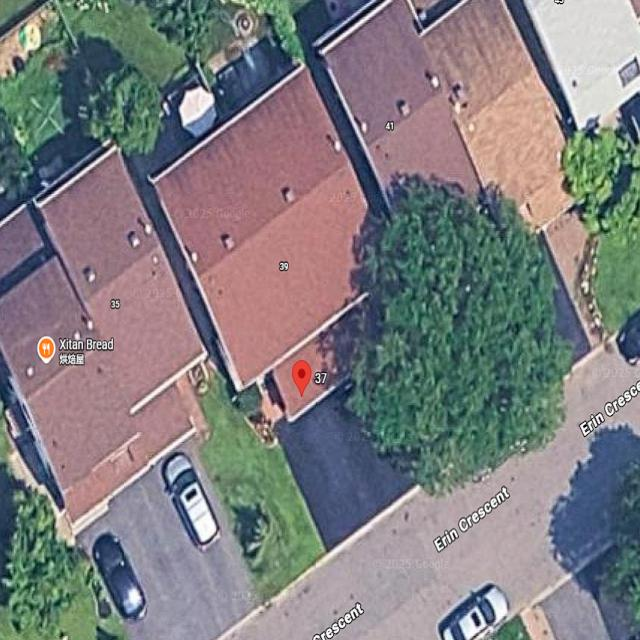Building: (150, 65, 427, 422)
boundaryof property: (59, 3, 487, 584)
obstacle: (163, 447, 226, 555), (89, 532, 144, 621), (440, 582, 512, 639), (178, 86, 218, 136)
walkways: (274, 329, 484, 555)
